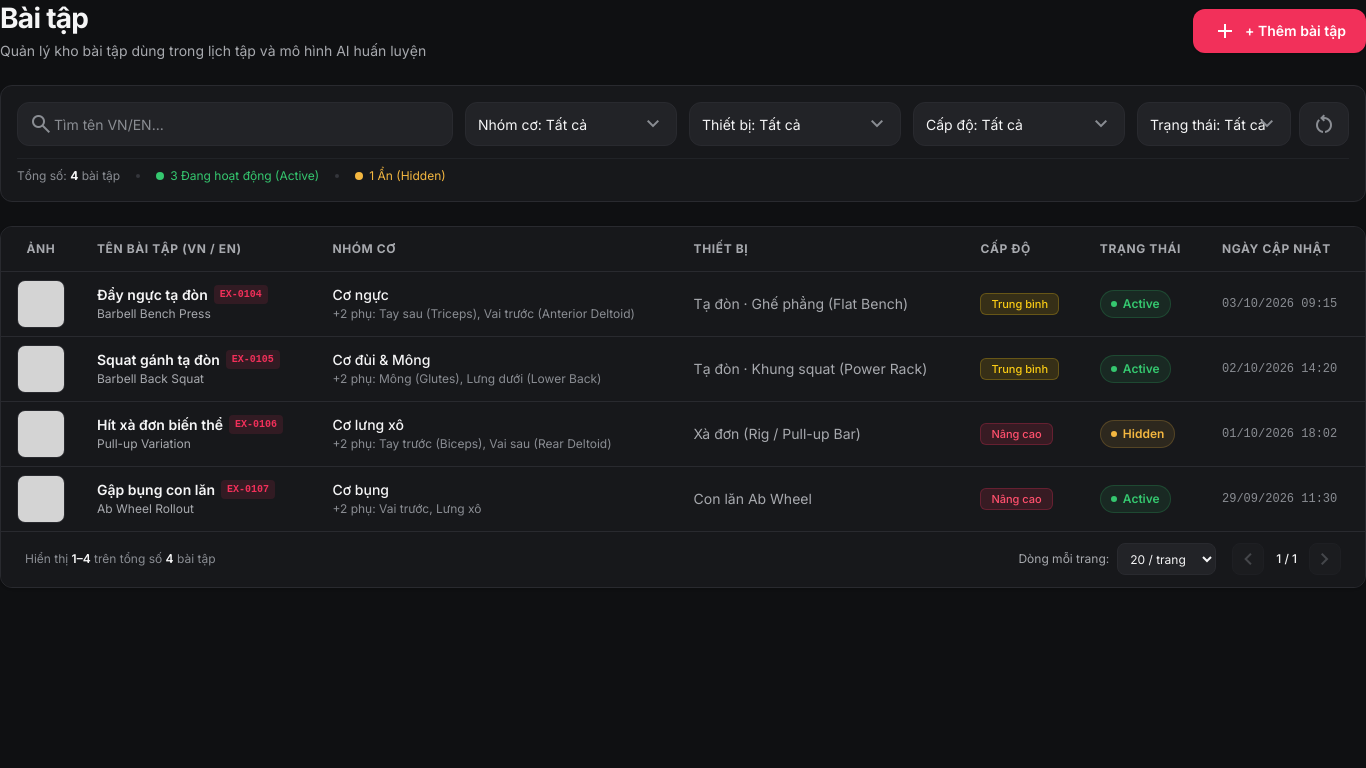
Test: ExerciseListPage › opens and closes drawer when clicking + Thêm bài tập
Step 1. Click the button "+ Thêm bài tập" → (1280, 30), box [1193, 8, 1365, 52]
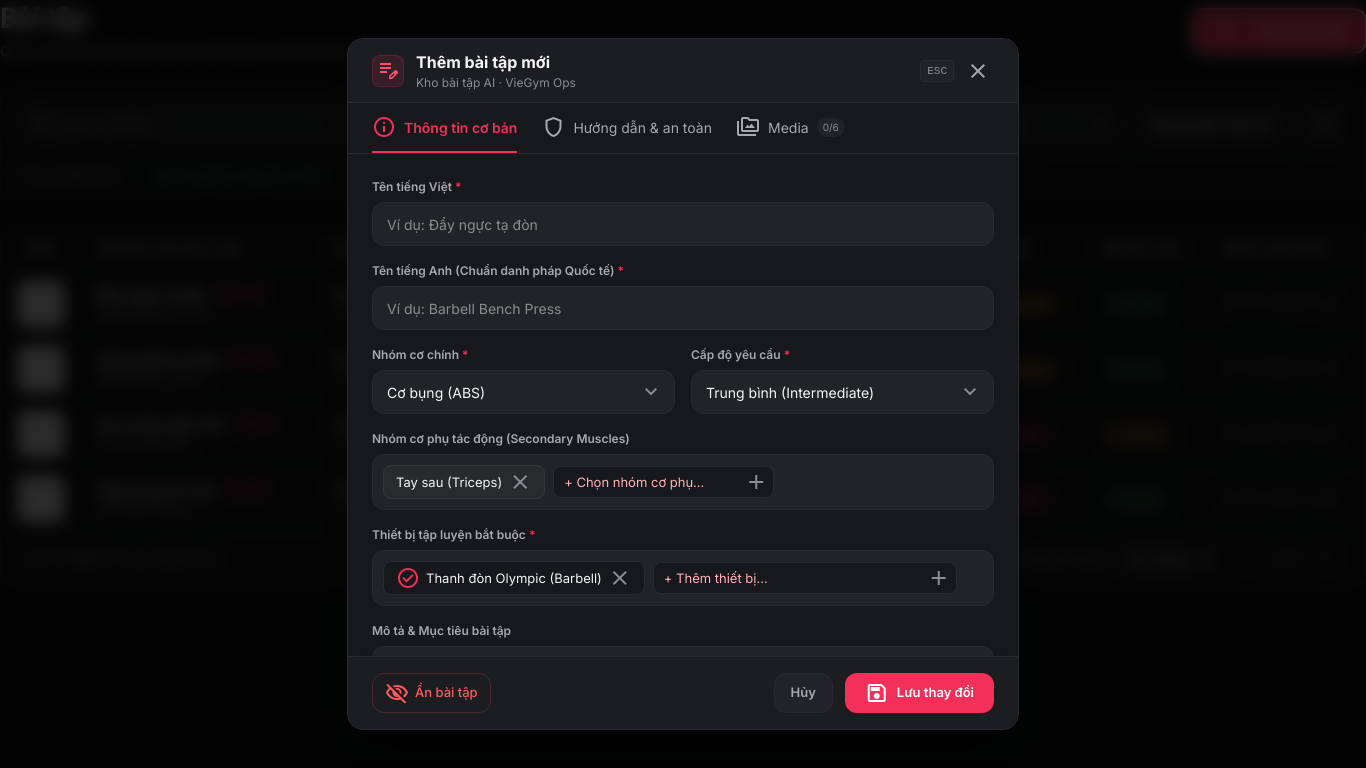
Expected: the heading "Thêm bài tập mới" is shown, [416, 50, 550, 74]
Expected: the text "Thông tin cơ bản" is shown, [404, 117, 517, 138]
Expected: the text "Hướng dẫn & an toàn" is shown, [574, 117, 712, 138]
Step 2. Click the button "Hủy" → (803, 693), box [774, 673, 833, 713]
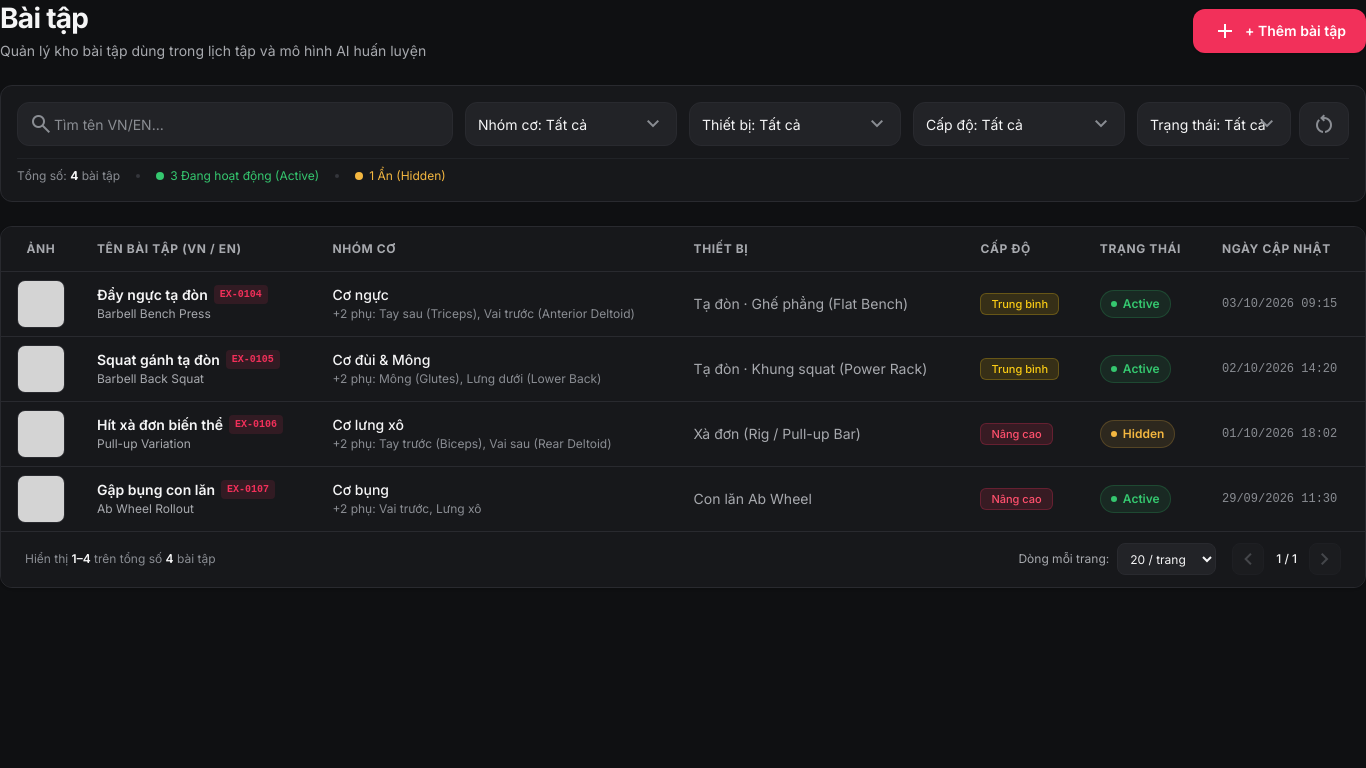
Expected: the heading "Thêm bài tập mới" is gone
